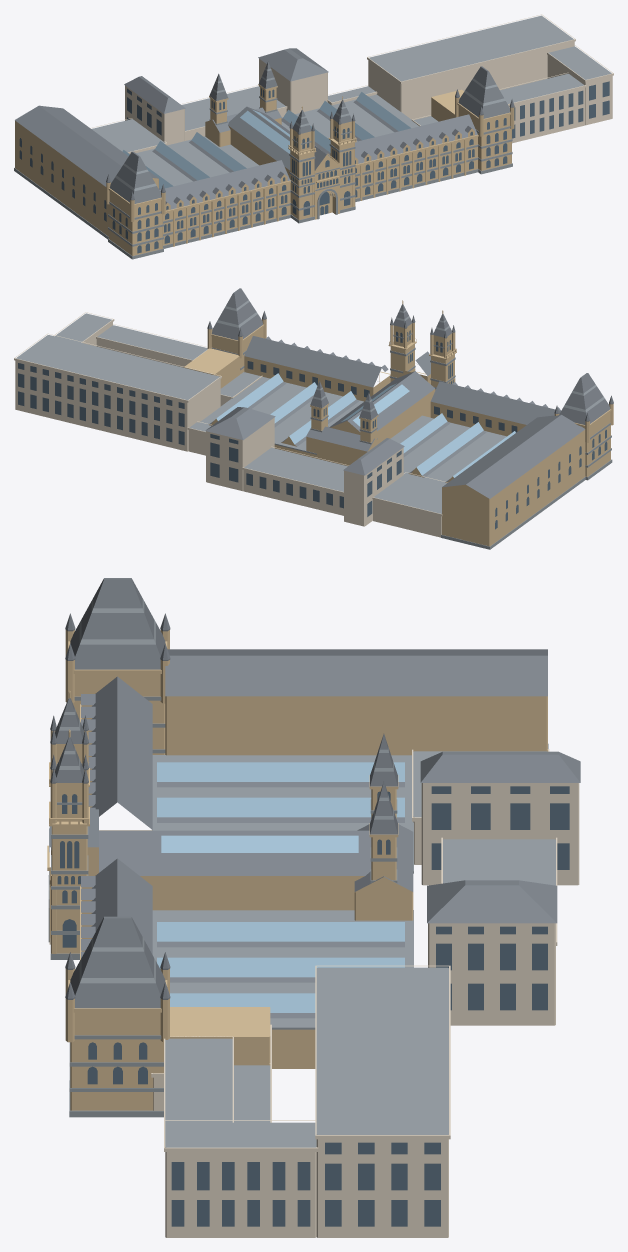
The model's file is london-natural-history-museum.glb.
The picture shows the model from 3 angles, top to bottom: view 1: azimuth 30°, elevation 25°; view 2: azimuth 150°, elevation 25°; view 3: azimuth 270°, elevation 25°; orthographic projection. The views are drawn at different scales.
Visible parts, largest first — view 1: Natural History Museum; view 2: Natural History Museum; view 3: Natural History Museum.
Part boxes in pixels (x1=…): Natural History Museum: x1=14, y1=14, x2=613, y2=259; Natural History Museum: x1=14, y1=288, x2=613, y2=549; Natural History Museum: x1=47, y1=578, x2=580, y2=1237.
Bounding box in the file's own units: 277 × 58.6 × 127.
